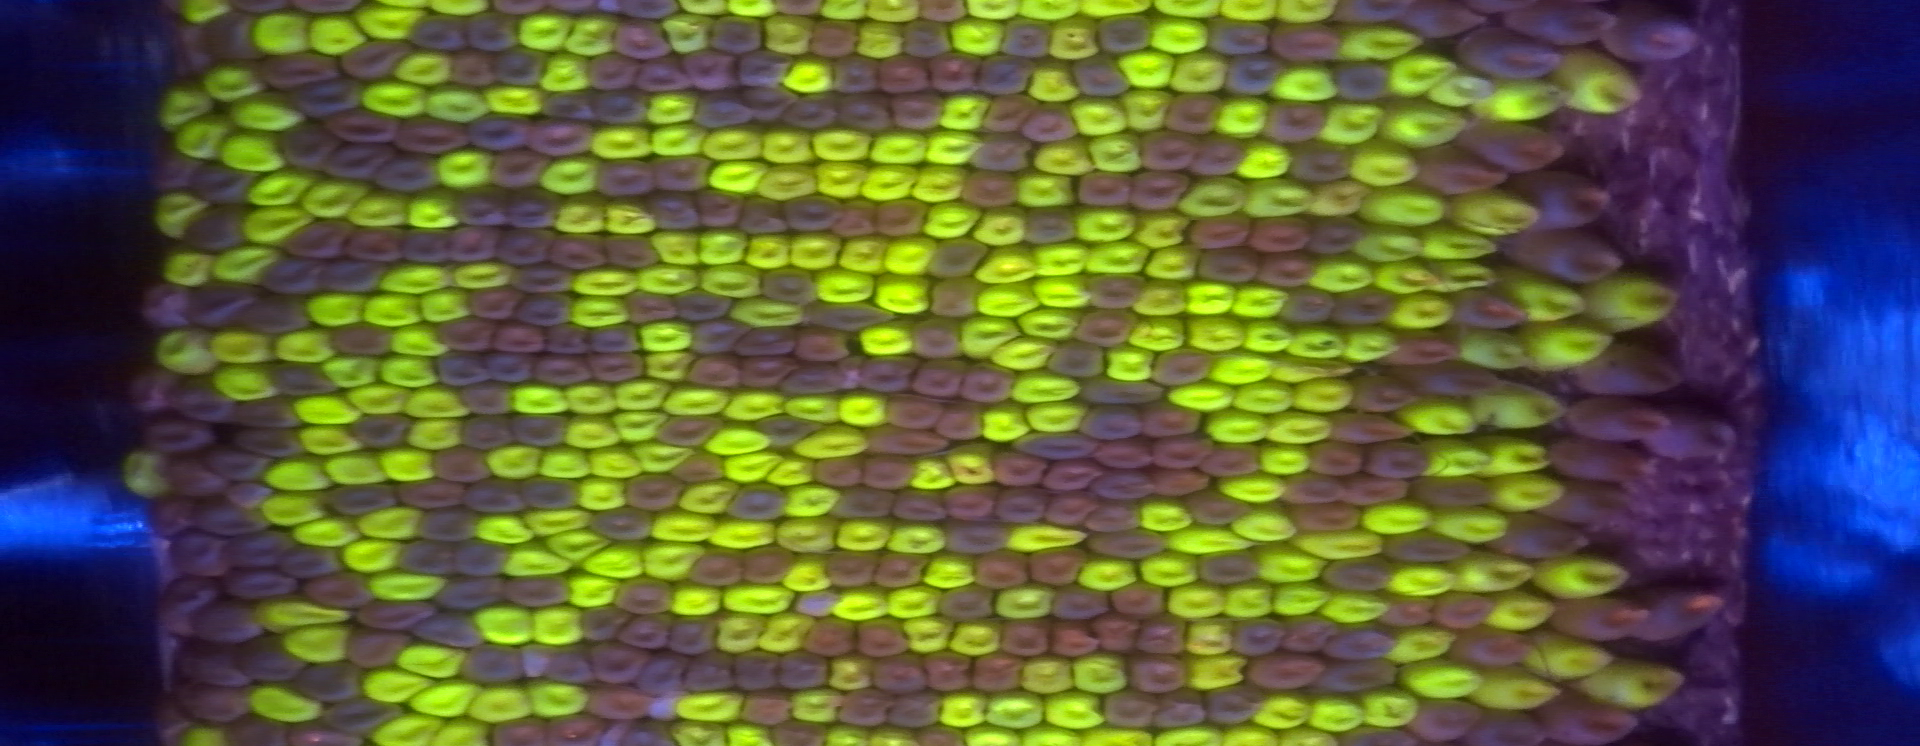fluorescent: (1559, 47, 1641, 116), (1583, 663, 1682, 713), (1379, 96, 1464, 151), (1480, 369, 1560, 424), (1526, 322, 1616, 370), (1588, 277, 1678, 323), (1542, 556, 1629, 604), (1446, 191, 1543, 234), (1510, 267, 1586, 321), (1524, 628, 1611, 674), (1362, 183, 1444, 225), (1251, 543, 1331, 587), (1349, 136, 1417, 187), (1479, 668, 1558, 712), (1457, 555, 1537, 595), (1400, 659, 1479, 699), (1485, 81, 1570, 119), (1037, 691, 1109, 734), (1400, 398, 1476, 439), (158, 81, 216, 134), (1351, 225, 1427, 265), (1430, 507, 1509, 545), (1244, 178, 1318, 218), (1463, 327, 1532, 370), (1484, 432, 1547, 479), (216, 130, 283, 173), (427, 81, 489, 127), (1489, 470, 1564, 508), (224, 93, 301, 130), (1172, 526, 1258, 559), (361, 76, 429, 118), (154, 332, 217, 376), (639, 543, 705, 584), (1420, 222, 1493, 260), (1310, 251, 1378, 292), (583, 539, 644, 583), (251, 685, 322, 723), (470, 681, 529, 726), (261, 457, 336, 492), (262, 597, 351, 626), (252, 9, 313, 51), (1392, 292, 1453, 334), (358, 669, 429, 706), (1390, 58, 1449, 102), (214, 247, 276, 289), (1299, 532, 1382, 562), (722, 298, 802, 330), (1269, 65, 1340, 100), (408, 680, 476, 717), (304, 181, 370, 219), (1173, 48, 1228, 93), (541, 153, 602, 194), (773, 516, 840, 552), (174, 120, 231, 163), (288, 625, 353, 663), (1422, 436, 1484, 475), (1075, 209, 1144, 245), (1265, 414, 1333, 450), (976, 205, 1031, 249), (1391, 622, 1457, 659), (512, 11, 572, 51), (1167, 381, 1234, 416), (377, 263, 449, 296), (984, 690, 1049, 726), (1340, 23, 1424, 51), (309, 16, 367, 56), (1090, 132, 1144, 176), (704, 127, 767, 165), (1215, 352, 1275, 391), (501, 541, 567, 577), (480, 608, 536, 649), (1322, 102, 1379, 143), (154, 187, 202, 236), (1234, 381, 1298, 418), (1205, 407, 1269, 443), (351, 190, 409, 230), (1185, 314, 1243, 354), (245, 169, 310, 205), (649, 121, 708, 160), (1014, 169, 1073, 208), (589, 122, 651, 159), (869, 130, 929, 168), (653, 508, 713, 546), (662, 10, 713, 55), (1085, 244, 1153, 277), (206, 61, 258, 104), (1311, 176, 1369, 216), (722, 586, 796, 616), (380, 355, 438, 393), (1177, 181, 1244, 214), (1258, 692, 1313, 733), (1390, 563, 1455, 598), (928, 124, 976, 170), (675, 691, 744, 723), (604, 194, 653, 239), (1007, 526, 1089, 552), (678, 480, 738, 517), (1149, 17, 1209, 54), (1237, 507, 1297, 544), (358, 505, 424, 538), (763, 127, 820, 165), (400, 646, 464, 680), (577, 267, 638, 303), (992, 341, 1063, 371), (212, 366, 279, 398), (789, 233, 840, 274), (1289, 381, 1352, 415), (1378, 262, 1440, 296), (404, 192, 460, 230), (438, 148, 495, 186), (948, 16, 1004, 54), (762, 164, 818, 202), (339, 538, 397, 575), (366, 575, 444, 601), (718, 611, 764, 657), (1051, 17, 1098, 61), (362, 293, 426, 326), (272, 331, 336, 364), (927, 200, 976, 243), (1188, 652, 1249, 686), (214, 331, 269, 369), (380, 443, 432, 483), (634, 266, 702, 296), (1076, 559, 1144, 589), (124, 454, 168, 501), (1438, 70, 1485, 113), (863, 167, 917, 205), (1365, 690, 1419, 728), (529, 682, 587, 718), (1242, 140, 1291, 181), (553, 196, 604, 236), (904, 615, 954, 655), (1133, 309, 1183, 349), (800, 423, 863, 454), (1033, 145, 1097, 176), (373, 713, 440, 744), (244, 205, 302, 239), (309, 290, 367, 325), (264, 494, 323, 528), (1216, 477, 1291, 503), (1074, 655, 1127, 693), (1145, 246, 1198, 284), (711, 516, 776, 546), (1321, 595, 1386, 626), (362, 7, 422, 40), (973, 250, 1033, 283), (1033, 274, 1093, 307), (764, 15, 813, 55), (541, 55, 590, 96), (942, 89, 991, 130), (1343, 326, 1401, 360), (1271, 584, 1329, 619), (640, 316, 691, 355), (1125, 53, 1176, 92), (324, 451, 380, 486), (617, 376, 669, 414), (1138, 209, 1189, 247), (831, 589, 890, 622), (876, 279, 932, 314), (1024, 66, 1080, 100), (1168, 586, 1224, 620), (1360, 506, 1429, 534), (885, 238, 933, 278), (937, 688, 986, 728), (1232, 287, 1286, 322), (1431, 260, 1491, 292), (664, 387, 729, 416), (962, 320, 1013, 358), (836, 235, 888, 272), (516, 381, 567, 418), (994, 586, 1049, 620), (1261, 443, 1313, 480), (529, 508, 599, 535), (648, 92, 700, 127), (1291, 326, 1343, 361), (813, 164, 869, 197), (422, 288, 471, 326), (700, 229, 749, 267), (911, 162, 960, 200), (399, 50, 453, 85), (1144, 551, 1198, 586), (705, 165, 765, 196), (947, 445, 989, 488), (568, 415, 620, 451), (591, 446, 643, 481), (1033, 239, 1085, 274), (552, 530, 607, 563), (1123, 93, 1171, 131), (702, 266, 760, 296), (1187, 282, 1236, 318), (1011, 372, 1075, 401), (789, 552, 831, 594), (564, 576, 615, 611), (816, 127, 869, 160), (822, 272, 876, 305), (1109, 343, 1153, 383), (329, 355, 381, 390), (1025, 658, 1076, 692), (1027, 403, 1085, 434), (653, 232, 700, 268), (563, 385, 618, 416), (796, 688, 844, 725), (567, 18, 620, 51), (670, 584, 722, 617), (354, 383, 415, 412), (973, 285, 1035, 314), (411, 386, 462, 420), (574, 477, 624, 511), (827, 653, 872, 691), (291, 396, 355, 423), (707, 423, 760, 454), (954, 624, 1000, 660), (1216, 97, 1262, 134), (1227, 583, 1273, 620), (487, 85, 539, 118), (921, 555, 972, 588), (840, 392, 888, 428), (1075, 99, 1123, 135), (729, 394, 789, 423), (485, 448, 540, 479), (1130, 281, 1180, 314), (1311, 698, 1365, 729), (853, 21, 901, 55), (762, 616, 806, 653), (1020, 311, 1073, 342), (536, 608, 582, 643), (746, 235, 792, 269), (1188, 625, 1234, 659), (786, 394, 842, 423), (1243, 323, 1291, 356), (391, 325, 442, 355), (298, 517, 359, 543), (540, 450, 591, 480), (984, 407, 1029, 442), (453, 258, 506, 288), (309, 423, 355, 456), (860, 322, 907, 354), (478, 513, 529, 543), (1140, 503, 1195, 530), (574, 301, 627, 330), (787, 486, 838, 516), (890, 587, 936, 619), (785, 62, 831, 93), (644, 356, 694, 385), (162, 257, 216, 283), (838, 523, 894, 548), (1079, 1, 1153, 20), (409, 423, 456, 452), (618, 412, 661, 443), (912, 459, 955, 491), (890, 528, 948, 551), (637, 441, 684, 468), (773, 450, 813, 481), (722, 454, 778, 478), (435, 717, 478, 746), (1016, 1, 1082, 20), (1280, 1, 1340, 21), (1153, 2, 1229, 17), (1220, 4, 1281, 20)
nonfluorescent: (1504, 233, 1625, 288), (1462, 118, 1567, 171), (1576, 342, 1680, 394), (1520, 173, 1611, 232), (1538, 692, 1640, 744), (1607, 9, 1700, 62), (1640, 586, 1727, 643), (1651, 408, 1740, 463), (1504, 1, 1615, 45), (1562, 394, 1667, 441), (1458, 26, 1547, 78), (1547, 432, 1641, 481), (1414, 147, 1509, 195), (1488, 514, 1589, 559), (1555, 597, 1644, 644), (1540, 481, 1633, 522), (193, 598, 269, 643), (217, 568, 304, 608), (1409, 355, 1495, 394), (1381, 528, 1476, 563), (1444, 285, 1520, 330), (162, 579, 220, 636), (1450, 627, 1531, 668), (149, 127, 200, 191), (236, 633, 302, 681), (167, 529, 229, 579), (458, 639, 525, 686), (1382, 325, 1456, 366), (200, 13, 264, 60), (863, 423, 950, 457), (126, 361, 181, 415), (302, 570, 376, 610), (176, 642, 244, 686), (591, 637, 649, 688), (191, 501, 274, 537), (1331, 58, 1396, 103), (296, 663, 369, 703), (1262, 97, 1325, 143), (191, 283, 253, 330), (229, 530, 302, 570), (1412, 701, 1485, 740), (318, 699, 404, 733), (1333, 287, 1400, 330), (1079, 374, 1164, 407), (1469, 706, 1539, 746), (264, 358, 338, 396), (426, 447, 497, 486), (160, 454, 222, 500), (1051, 583, 1113, 627), (1087, 528, 1171, 561), (184, 207, 242, 254), (324, 481, 404, 516), (178, 377, 238, 423), (1273, 283, 1333, 328), (257, 49, 339, 82), (778, 646, 830, 697), (1322, 555, 1387, 597), (255, 256, 321, 296), (613, 15, 672, 60), (287, 220, 354, 260), (1164, 91, 1220, 138), (169, 691, 249, 724), (1331, 409, 1411, 442), (1413, 473, 1493, 506), (1127, 657, 1188, 699), (820, 543, 877, 589), (342, 42, 415, 77), (396, 116, 467, 153), (1073, 48, 1130, 93), (1151, 344, 1209, 390), (1272, 23, 1335, 65), (414, 615, 492, 648), (724, 485, 787, 526), (874, 652, 928, 699), (278, 124, 333, 170), (1408, 2, 1483, 37), (852, 356, 920, 394), (1365, 440, 1433, 478), (1076, 405, 1144, 443), (293, 78, 358, 118), (245, 292, 310, 331), (1086, 267, 1144, 311), (1321, 659, 1401, 691), (1020, 205, 1080, 246), (1191, 134, 1247, 179), (193, 164, 257, 203), (467, 111, 530, 151), (167, 15, 203, 82), (396, 539, 457, 579), (1247, 655, 1321, 688), (838, 96, 895, 138), (1431, 590, 1496, 628), (141, 285, 192, 333), (1249, 216, 1311, 255), (143, 499, 202, 540), (622, 472, 684, 511), (1299, 439, 1362, 478), (1229, 614, 1288, 655), (356, 598, 436, 628), (493, 45, 549, 89), (1131, 171, 1187, 216), (530, 119, 590, 159), (347, 628, 410, 666), (1046, 341, 1107, 380), (1347, 372, 1408, 412), (1136, 612, 1185, 661), (381, 153, 438, 195), (451, 186, 508, 228), (808, 616, 860, 663), (687, 649, 740, 695), (1027, 546, 1086, 587), (1190, 216, 1253, 254), (433, 577, 502, 611), (1202, 16, 1269, 51), (142, 420, 216, 452), (1331, 621, 1395, 658), (1294, 505, 1368, 537), (972, 130, 1030, 170), (331, 108, 398, 142), (877, 51, 931, 94), (552, 227, 606, 269), (737, 688, 791, 731), (1104, 688, 1158, 731), (329, 323, 394, 359), (831, 488, 896, 523), (503, 190, 562, 229), (1291, 143, 1346, 185), (931, 240, 986, 282), (1044, 490, 1101, 530), (833, 198, 884, 243), (782, 365, 849, 399), (947, 519, 1015, 552), (740, 543, 792, 586), (932, 396, 984, 439), (691, 92, 752, 129), (462, 414, 516, 456), (598, 87, 653, 127), (1196, 249, 1261, 283), (516, 477, 580, 511), (961, 361, 1011, 405), (493, 149, 545, 192), (351, 222, 404, 263), (458, 538, 511, 579), (694, 548, 747, 589), (454, 383, 520, 416), (1020, 107, 1078, 145), (317, 260, 381, 294), (280, 545, 344, 579), (1201, 441, 1265, 475), (1344, 472, 1413, 503), (606, 229, 660, 269), (931, 279, 984, 320), (860, 453, 913, 494), (782, 196, 844, 232), (1226, 49, 1273, 94), (830, 51, 879, 96), (656, 154, 711, 194), (1076, 171, 1131, 211), (1311, 214, 1367, 254), (506, 262, 571, 295), (590, 162, 653, 196), (349, 412, 411, 446), (617, 575, 673, 612), (1202, 686, 1259, 724), (658, 414, 718, 450), (1075, 311, 1135, 347), (1191, 492, 1251, 528), (691, 316, 743, 356), (760, 409, 813, 450), (638, 55, 692, 94), (976, 55, 1030, 94), (465, 479, 529, 512), (413, 507, 479, 539), (993, 450, 1054, 484), (400, 225, 456, 263), (902, 20, 953, 61), (1158, 691, 1209, 733), (1283, 614, 1333, 655), (584, 49, 636, 89), (711, 17, 763, 58), (804, 17, 856, 58), (546, 646, 598, 686), (622, 614, 673, 654), (1280, 475, 1344, 507), (737, 326, 800, 359), (891, 491, 954, 524), (1140, 401, 1202, 434), (639, 652, 687, 695), (441, 316, 495, 354), (673, 285, 727, 323), (973, 551, 1031, 587), (947, 477, 996, 518), (840, 688, 889, 730), (1002, 621, 1051, 663), (1141, 131, 1191, 171), (648, 196, 703, 233), (1196, 552, 1262, 583), (1000, 18, 1052, 58), (503, 573, 572, 603), (587, 690, 655, 719), (1048, 620, 1100, 659), (735, 646, 779, 691), (1258, 254, 1320, 285), (1150, 439, 1215, 469), (1100, 13, 1153, 50), (229, 715, 296, 745), (973, 654, 1022, 695), (960, 170, 1018, 205), (856, 619, 906, 658), (464, 13, 516, 51), (699, 187, 743, 232), (1086, 500, 1145, 533), (917, 318, 962, 361), (800, 323, 852, 360), (542, 320, 590, 360), (231, 428, 302, 454), (887, 392, 940, 428), (927, 652, 977, 690), (544, 713, 601, 746), (688, 353, 743, 387), (814, 300, 891, 325), (1015, 431, 1092, 456), (888, 693, 939, 730), (1114, 587, 1166, 624), (399, 481, 469, 508), (453, 224, 500, 265), (607, 715, 669, 746), (517, 410, 564, 450), (587, 514, 650, 544), (291, 719, 360, 746), (672, 454, 726, 489), (996, 490, 1049, 524), (743, 194, 786, 236), (1095, 443, 1160, 472), (1097, 610, 1136, 657), (485, 354, 540, 387), (741, 358, 793, 392), (238, 401, 299, 430), (331, 145, 387, 176), (691, 47, 733, 88), (814, 457, 864, 492), (760, 271, 814, 304), (938, 588, 992, 621), (981, 96, 1027, 134), (915, 359, 961, 397), (211, 451, 268, 481), (587, 356, 649, 385), (876, 202, 931, 234), (874, 554, 929, 586), (500, 227, 552, 260), (516, 296, 569, 328), (931, 54, 977, 91), (627, 284, 673, 321), (411, 15, 463, 48), (744, 87, 796, 120), (544, 93, 599, 124), (436, 354, 491, 385), (1382, 597, 1435, 628), (533, 358, 591, 386), (893, 96, 940, 130), (790, 96, 839, 129), (495, 323, 544, 356), (673, 619, 718, 654), (578, 606, 623, 641), (1043, 459, 1098, 488), (1098, 473, 1156, 499), (451, 50, 493, 85), (473, 288, 519, 318), (589, 326, 639, 354), (519, 646, 553, 684), (228, 481, 272, 511), (498, 725, 560, 746), (1156, 473, 1207, 492), (800, 593, 842, 612)
